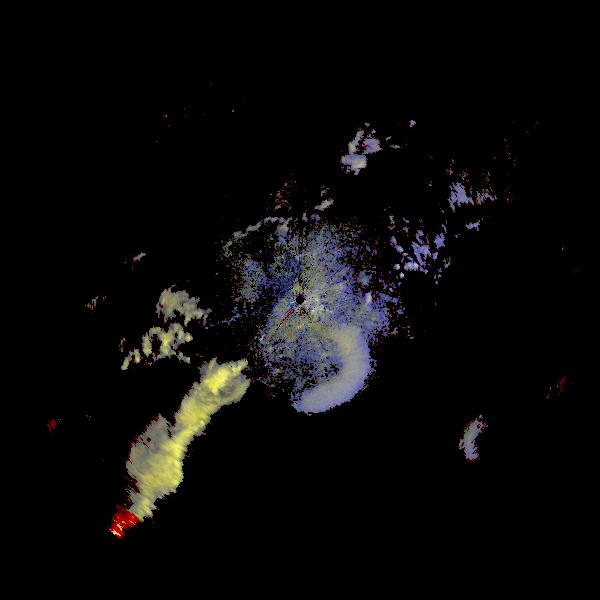roost: (244, 290, 382, 428), (458, 413, 518, 473)
